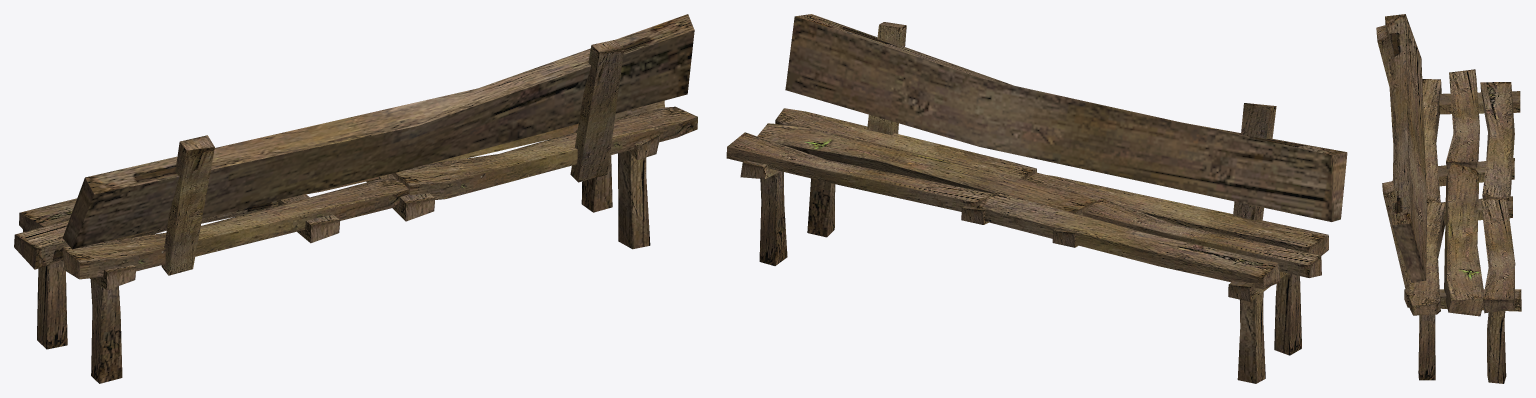
3 renders of one model, left to right at view 1: azimuth 30°, elevation 25°; view 2: azimuth 150°, elevation 25°; view 3: azimuth 270°, elevation 25°, orthographic. The views are drawn at different scales.
Parts seen in each view (by area): view 1: LV_Common_Object_A_AssemblyWoodChair05_SM_CNH; view 2: LV_Common_Object_A_AssemblyWoodChair05_SM_CNH; view 3: LV_Common_Object_A_AssemblyWoodChair05_SM_CNH.
Boxes of the visible parts, left/top/right/bottom form: LV_Common_Object_A_AssemblyWoodChair05_SM_CNH: left=14, top=14, right=697, bottom=383; LV_Common_Object_A_AssemblyWoodChair05_SM_CNH: left=726, top=14, right=1347, bottom=383; LV_Common_Object_A_AssemblyWoodChair05_SM_CNH: left=1376, top=14, right=1521, bottom=383.
Bounding box in the file's own units: 0.6814 × 0.2489 × 0.181.
